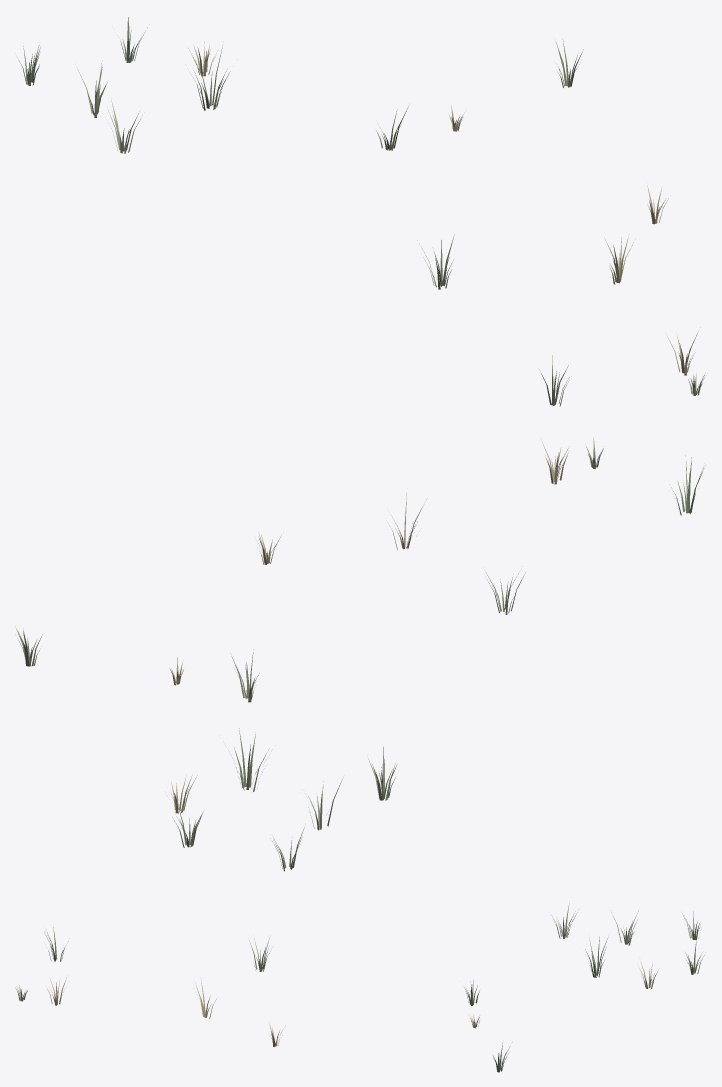
Rendered from AE_Grass_-4_-2.fbx.
The picture shows the model from 3 angles, top to bottom: view 1: azimuth 30°, elevation 25°; view 2: azimuth 150°, elevation 25°; view 3: azimuth 270°, elevation 25°; orthographic projection. The views are drawn at different scales.
Parts seen in each view (by area): view 1: AE_Grass_-4_-2_LOD0; view 2: AE_Grass_-4_-2_LOD0; view 3: AE_Grass_-4_-2_LOD0.
Part boxes in pixels (box(x1,y1,x2,y2)): AE_Grass_-4_-2_LOD0: box(17, 17, 705, 406); AE_Grass_-4_-2_LOD0: box(16, 438, 704, 871); AE_Grass_-4_-2_LOD0: box(15, 901, 704, 1072).
Size of what is drawn, in the model's own units: 791 by 105 by 1586.
